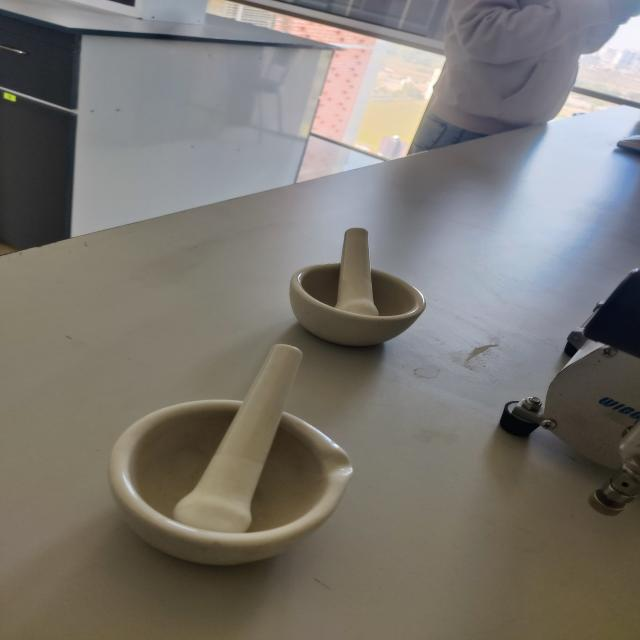Porcelain_Mortar Pestle: (105, 332, 362, 594), (280, 216, 446, 360)
